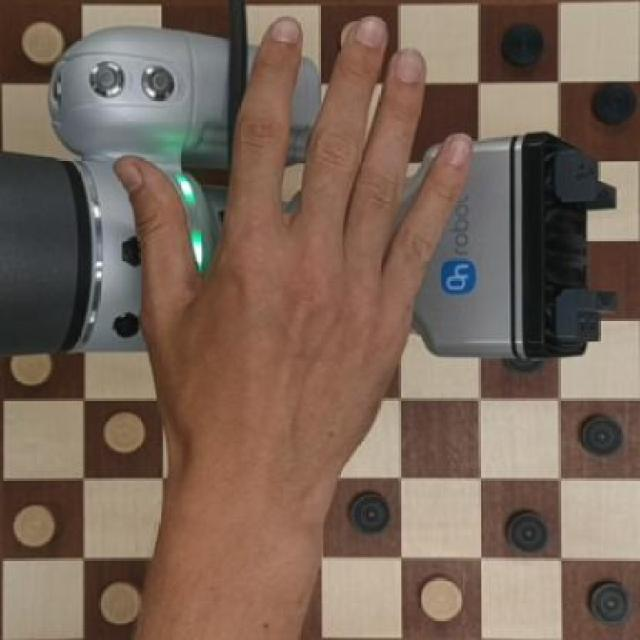black: (578, 569, 633, 627), (576, 85, 640, 132), (497, 499, 550, 553), (574, 408, 622, 462), (501, 13, 548, 68), (346, 484, 389, 536)
white: (90, 404, 148, 468), (410, 568, 471, 622), (1, 499, 61, 543), (91, 577, 138, 632), (19, 17, 68, 66), (8, 348, 58, 388)
